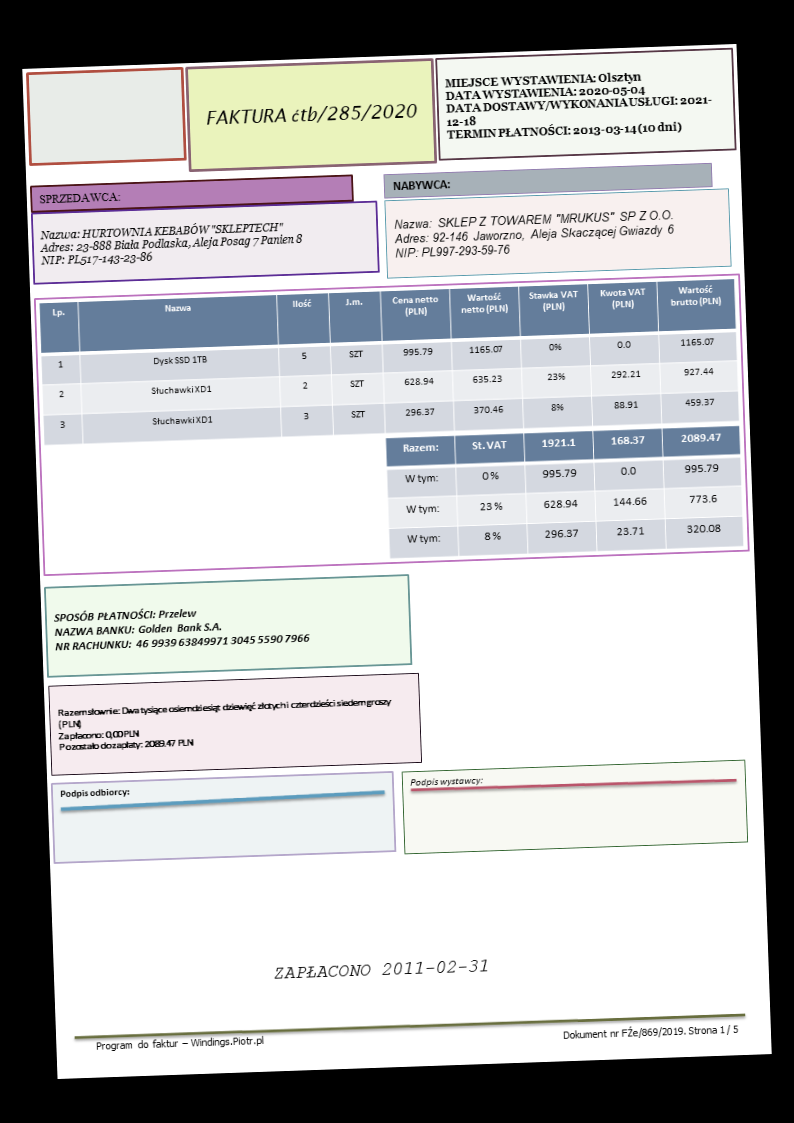Table: (38, 278, 739, 446), (384, 424, 745, 560)
TextBox: (443, 67, 714, 142), (54, 694, 395, 753), (392, 206, 677, 261), (52, 601, 312, 654), (38, 219, 303, 268), (204, 98, 419, 130), (272, 958, 491, 983), (560, 1021, 740, 1046), (93, 1034, 265, 1054), (37, 190, 122, 207), (56, 785, 134, 802), (391, 177, 452, 195), (408, 775, 484, 789)
